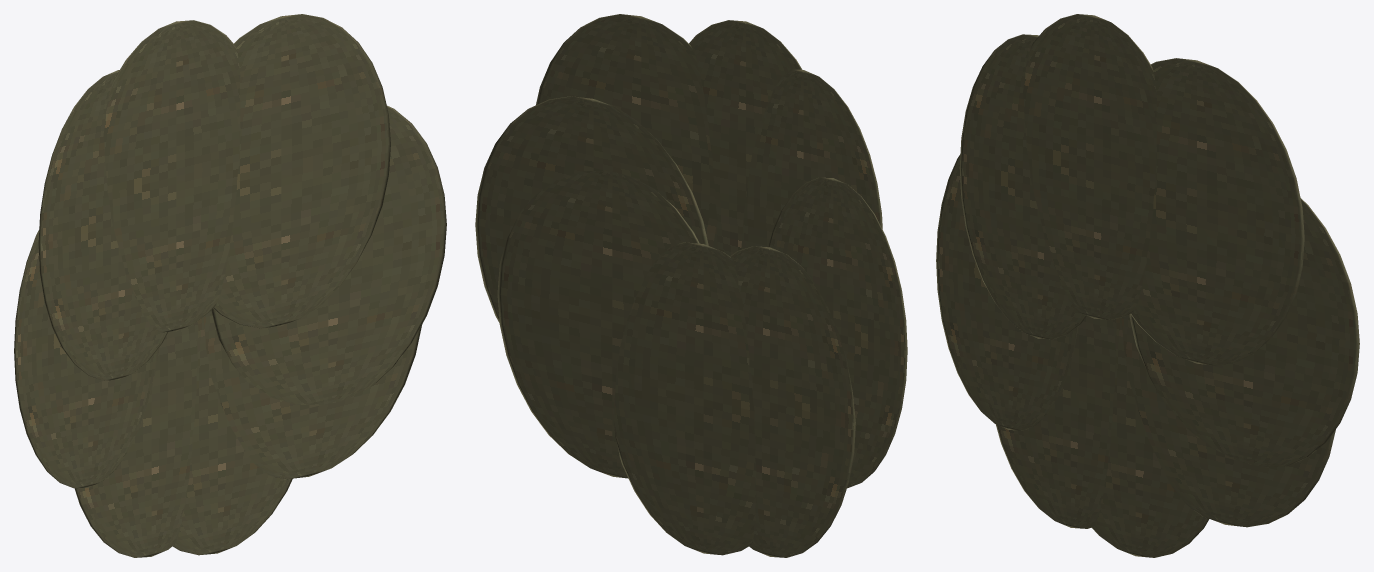
File: leak.glb
The picture shows the model from 3 angles, left to right: view 1: azimuth 30°, elevation 25°; view 2: azimuth 150°, elevation 25°; view 3: azimuth 330°, elevation 25°; orthographic projection. The views are drawn at different scales.
Parts seen in each view (by area): view 1: fragment (×8); view 2: fragment (×8); view 3: fragment (×8).
Part boxes in pixels (x1,y1,x2,y2): fragment (×8): (14,14,446,557); fragment (×8): (475,14,907,557); fragment (×8): (936,14,1359,557).
Size of the model in its own units: 0.5703 by 0.6832 by 0.00206.
1 material, 1 textured.
